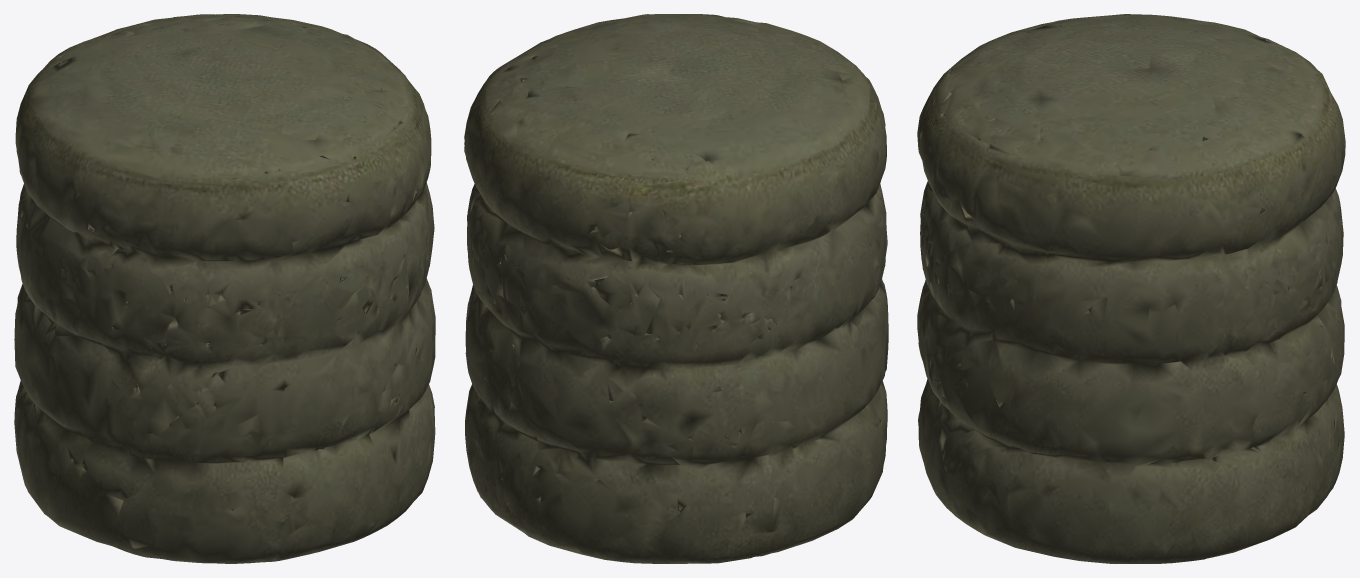
File: FkNksFS6bKZLuo8VFywy_.glb
The picture shows the model from 3 angles, left to right: view 1: azimuth 30°, elevation 25°; view 2: azimuth 150°, elevation 25°; view 3: azimuth 270°, elevation 25°; orthographic projection.
Visible parts, largest first — view 1: geometry_0; view 2: geometry_0; view 3: geometry_0.
Part boxes in pixels (x1=…): geometry_0: x1=14, y1=14, x2=435, y2=563; geometry_0: x1=464, y1=14, x2=888, y2=563; geometry_0: x1=917, y1=14, x2=1345, y2=563.
Bounding box in the file's own units: 0.9001 × 0.9983 × 0.9176.
Materials: 1 (1 with a texture image).
